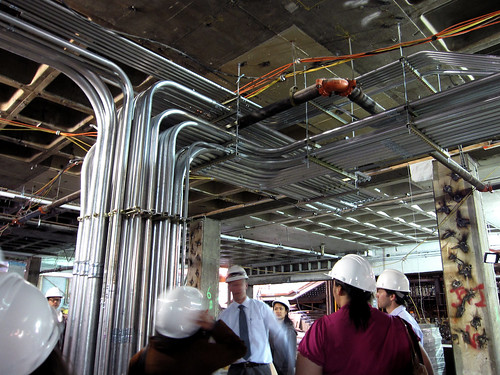person hardhat: (300, 251, 419, 375), (127, 278, 226, 375), (1, 263, 77, 373), (223, 263, 284, 375), (376, 266, 436, 375), (269, 288, 294, 375), (40, 280, 69, 352)
